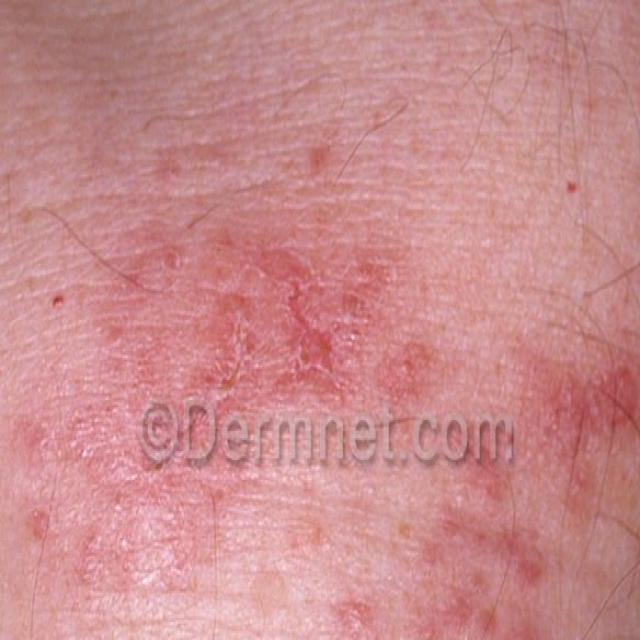Viral Infections: (40, 157, 440, 409), (359, 465, 547, 640), (521, 312, 640, 509)
